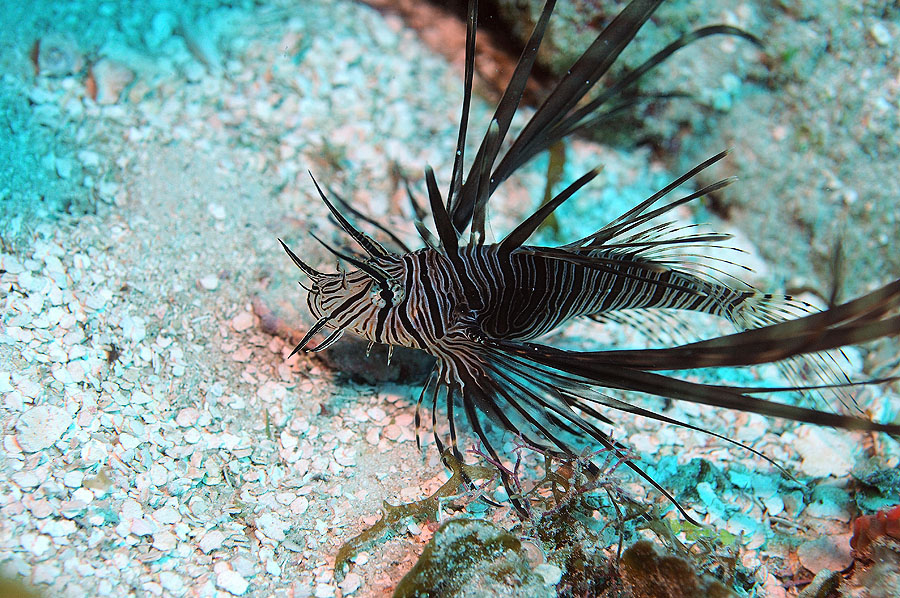Pterois_volitans: (242, 5, 764, 509)
